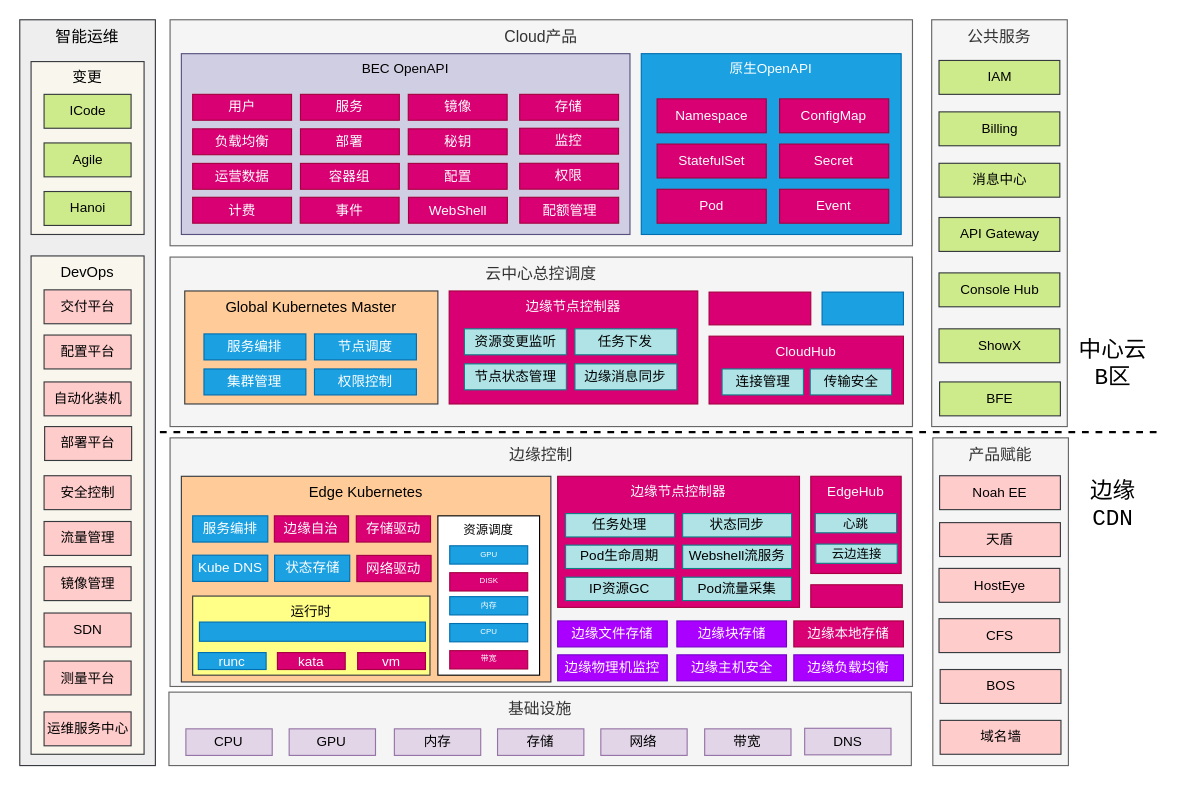
This 1183x785 diagram has some shape labels left out. Here are the shapes that lost their labels. From the top down, the centre of each, then its label:
At (x=759, y=308): "WebShell代理".
At (x=862, y=308): "监控汇聚".
At (x=856, y=595): "业务监控采集".
At (x=311, y=631): "cotainerd".
